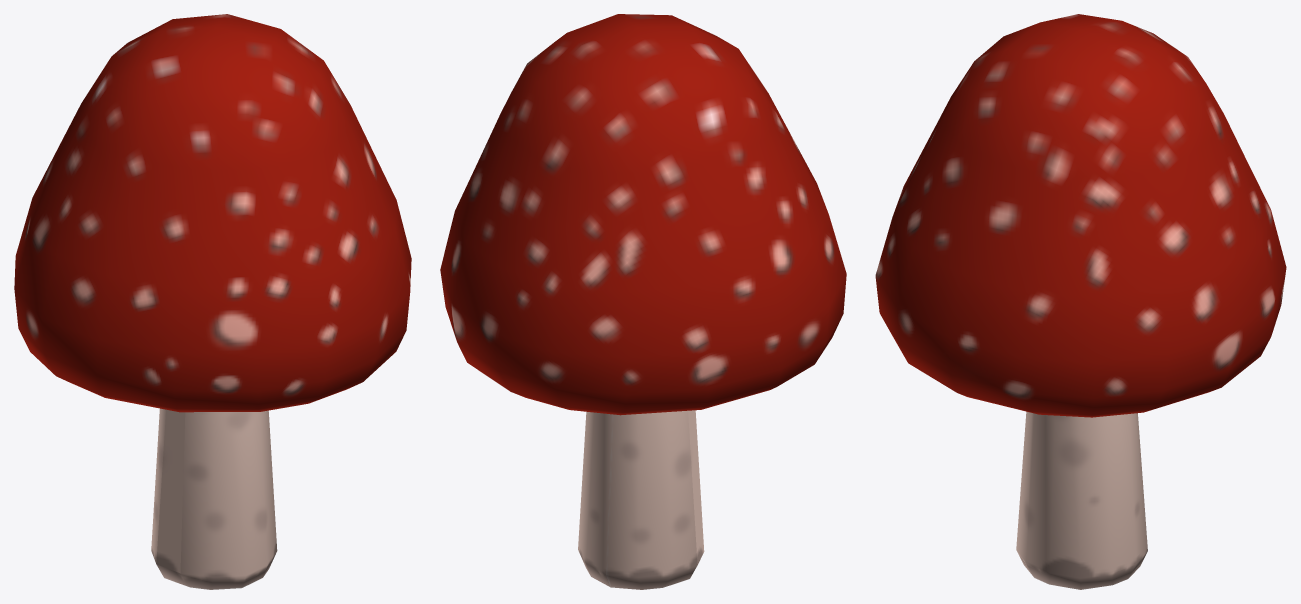
File: Mushroom_14.fbx
3 renders of one model, left to right at view 1: azimuth 30°, elevation 25°; view 2: azimuth 150°, elevation 25°; view 3: azimuth 270°, elevation 25°, orthographic.
Visible parts, largest first — view 1: Mushroom_14; view 2: Mushroom_14; view 3: Mushroom_14.
Part boxes in pixels (x1,y1,x2,y2): Mushroom_14: (14,14,411,589); Mushroom_14: (440,14,846,589); Mushroom_14: (875,14,1286,589).
Bounding box in the file's own units: 20.52 × 29.61 × 20.53.
Materials: 1 (1 with a texture image).
